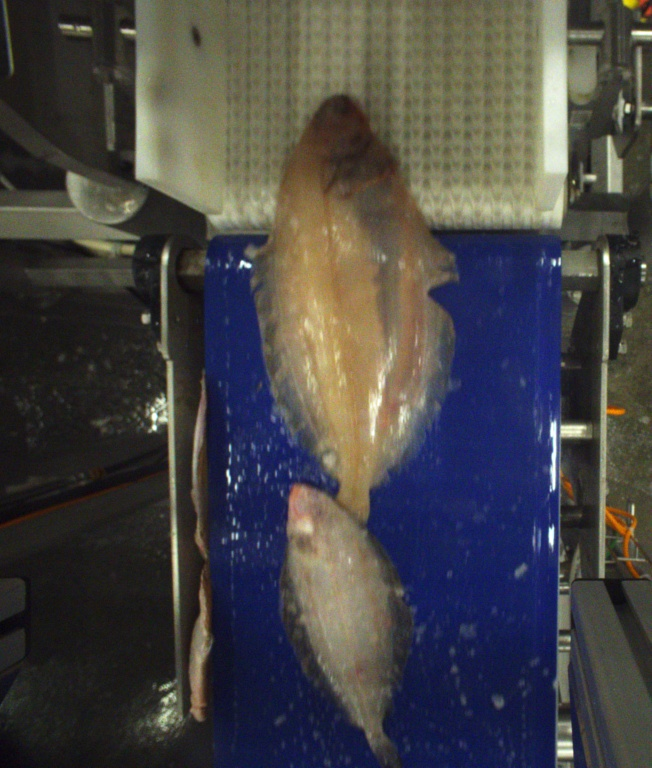WIT: (282, 481, 416, 765)
